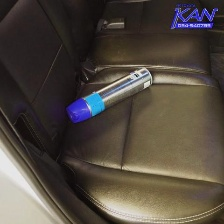aerosol_cans: (59, 63, 156, 126)
